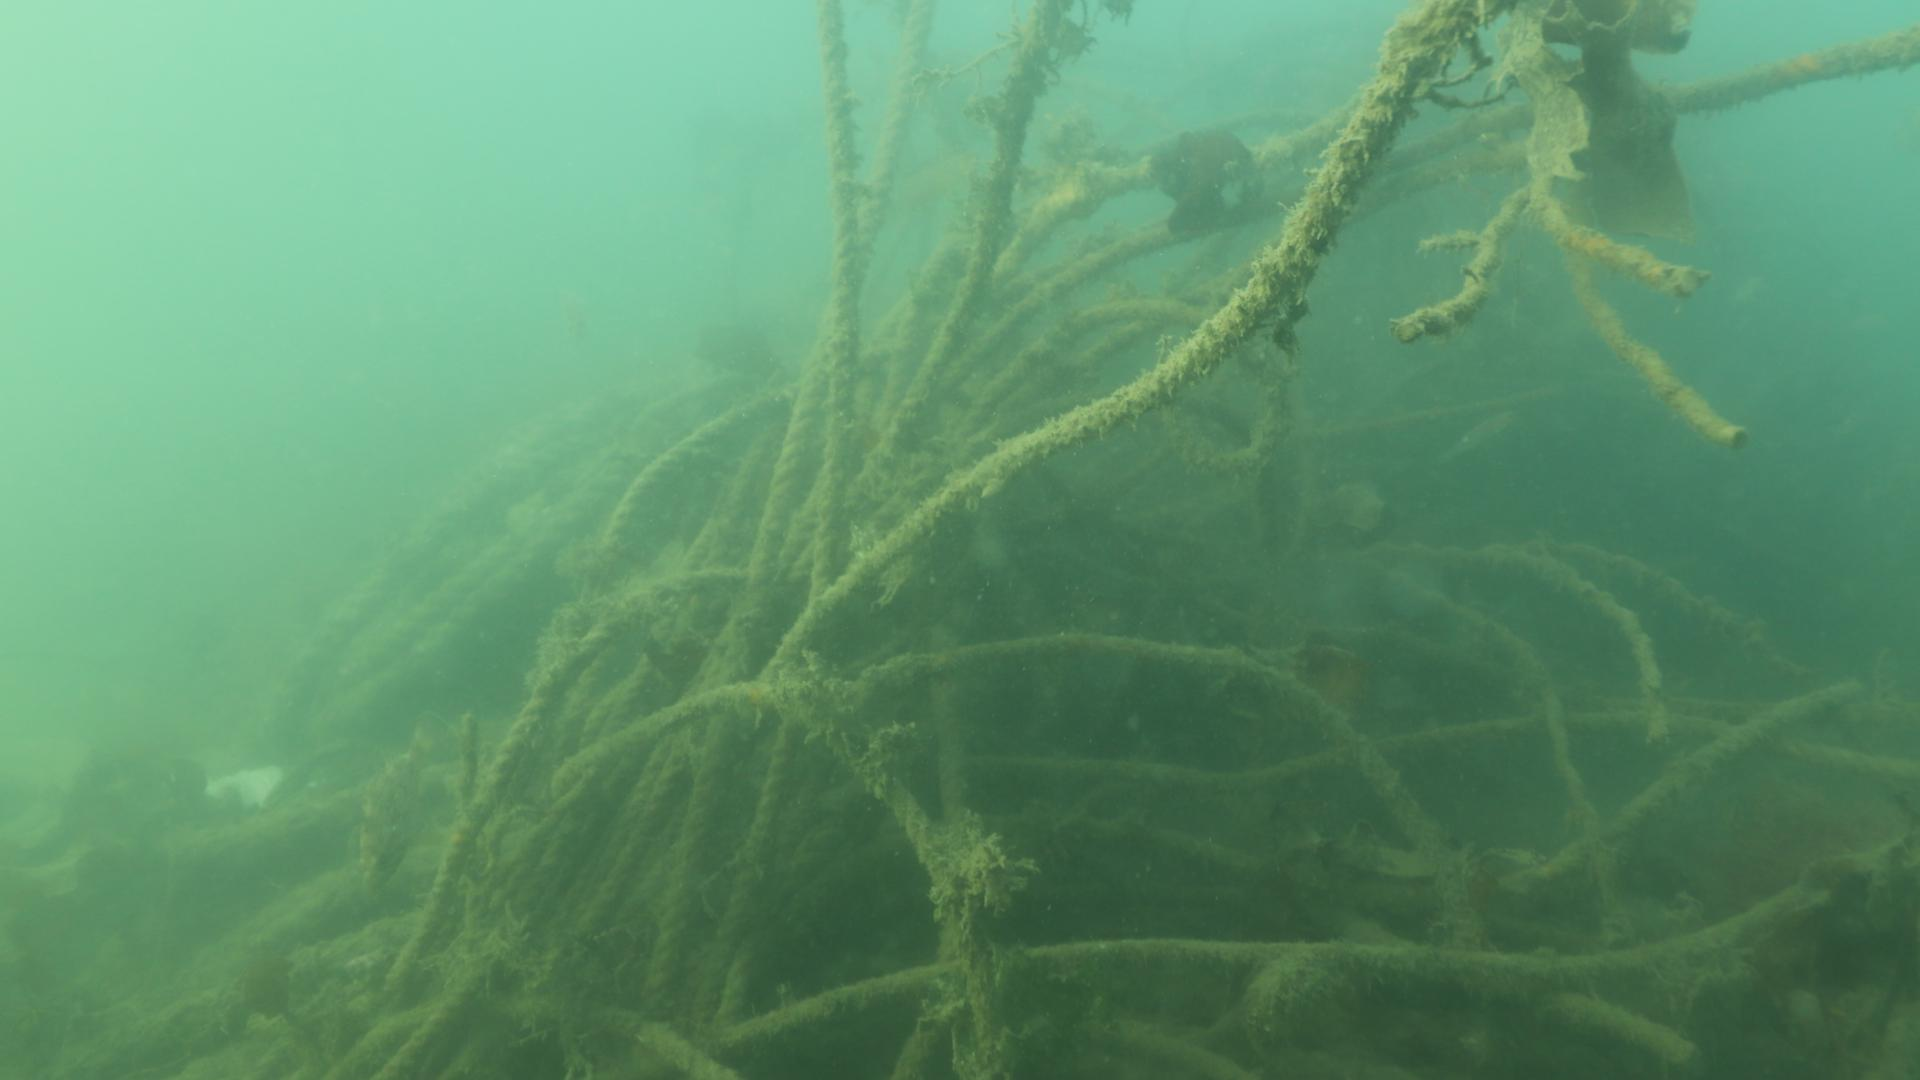bundle of ropes: (276, 0, 1920, 1080)
